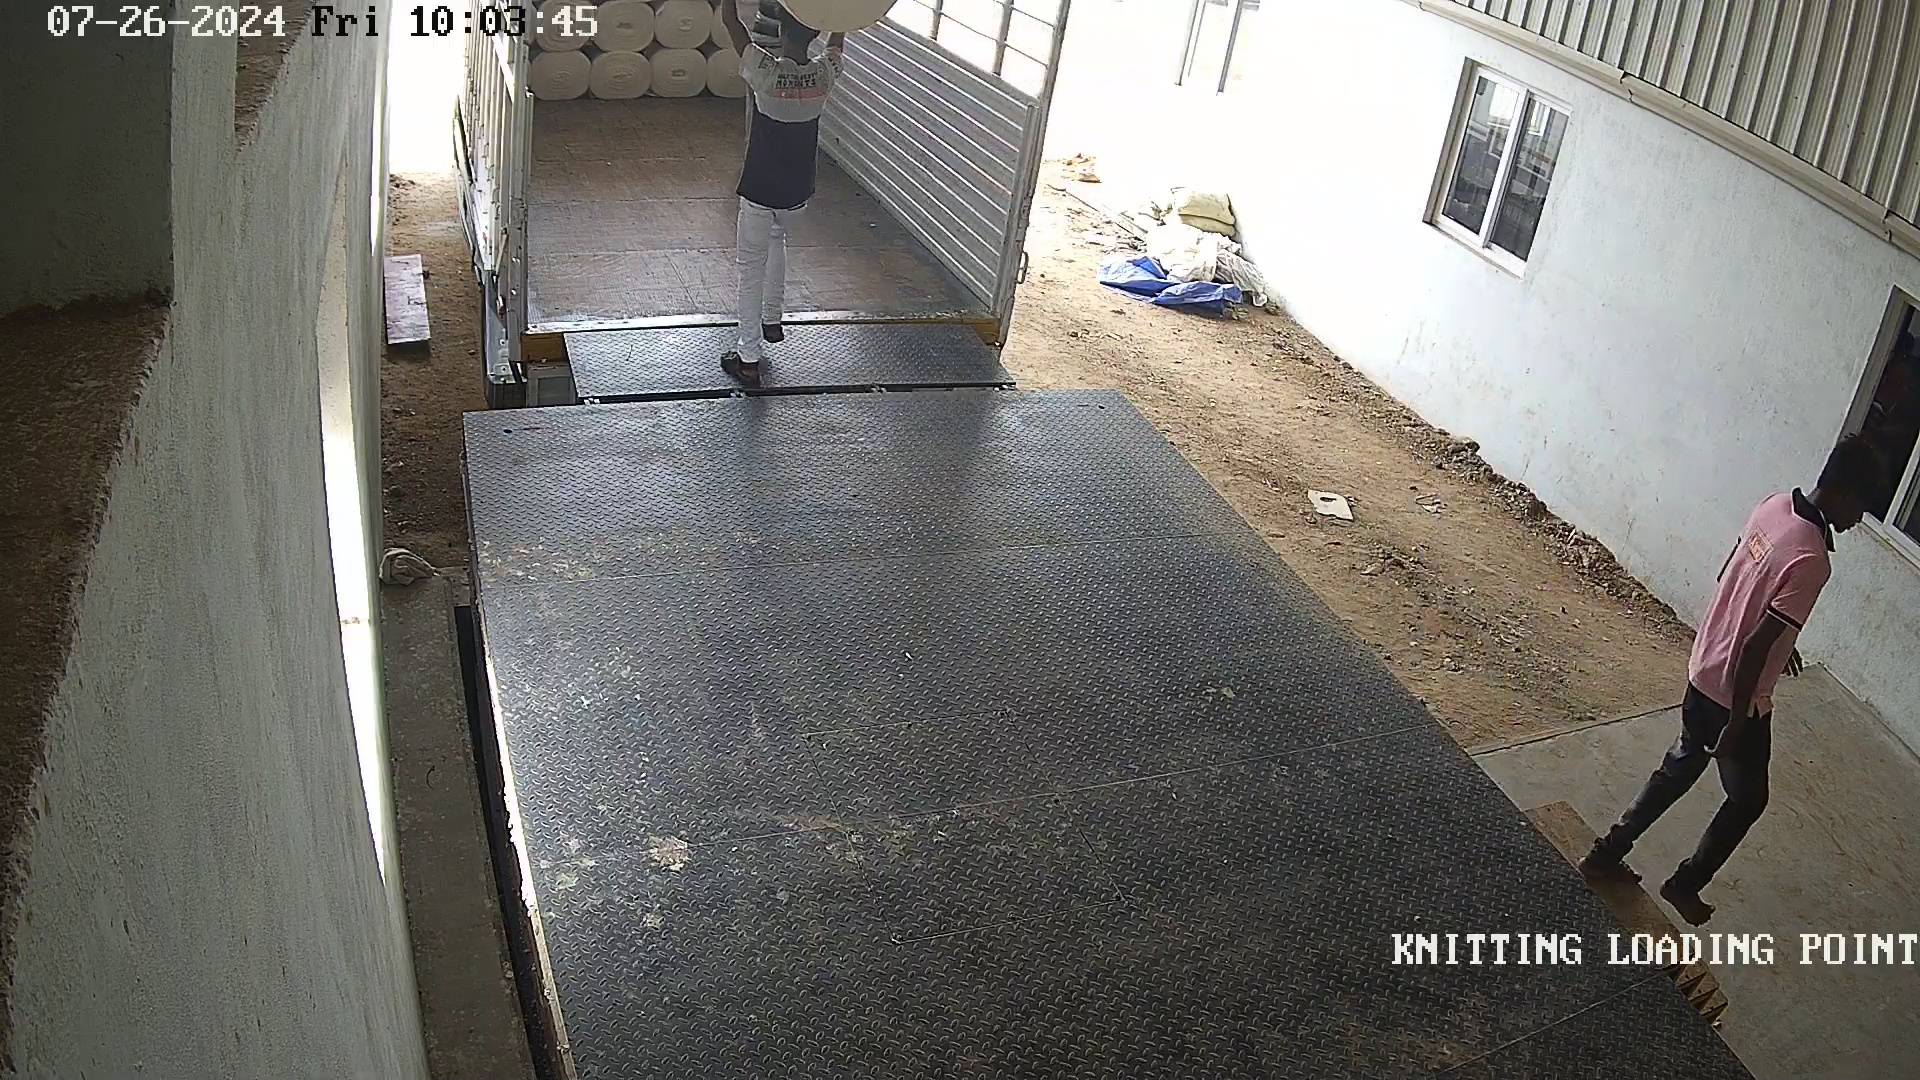bag: (741, 1, 956, 33)
